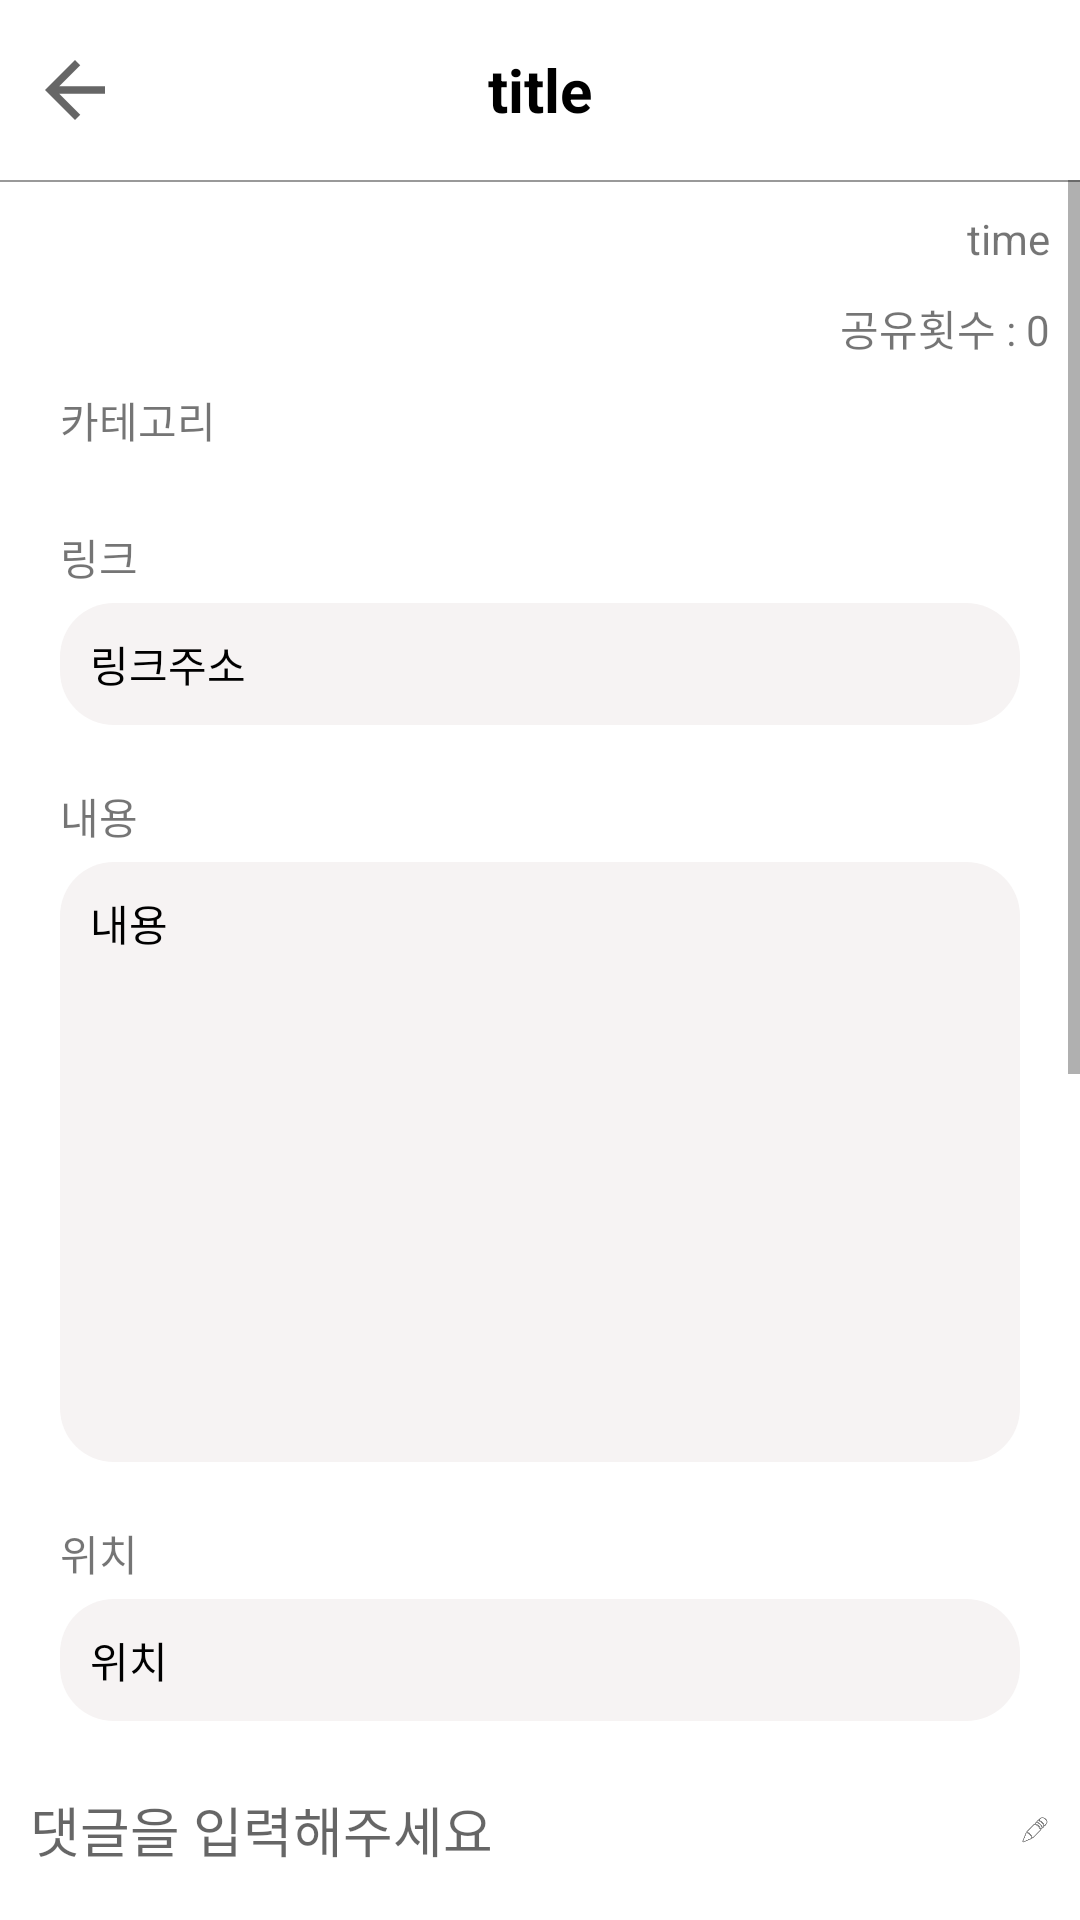

Screen size 1080px x 1920px. Icon name, then its box in pixels as (x1, y1, x2, y2):
edit: (1022, 1817, 1048, 1843)
